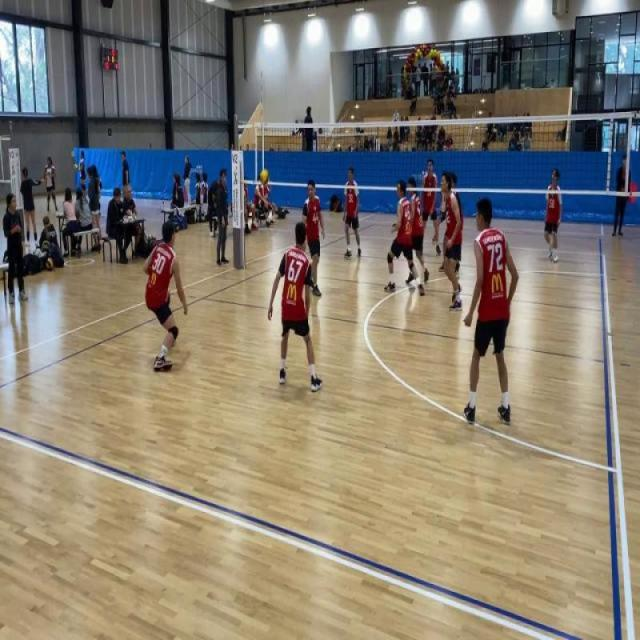volleyball: (258, 168, 270, 186), (46, 257, 54, 271), (74, 163, 78, 171)
